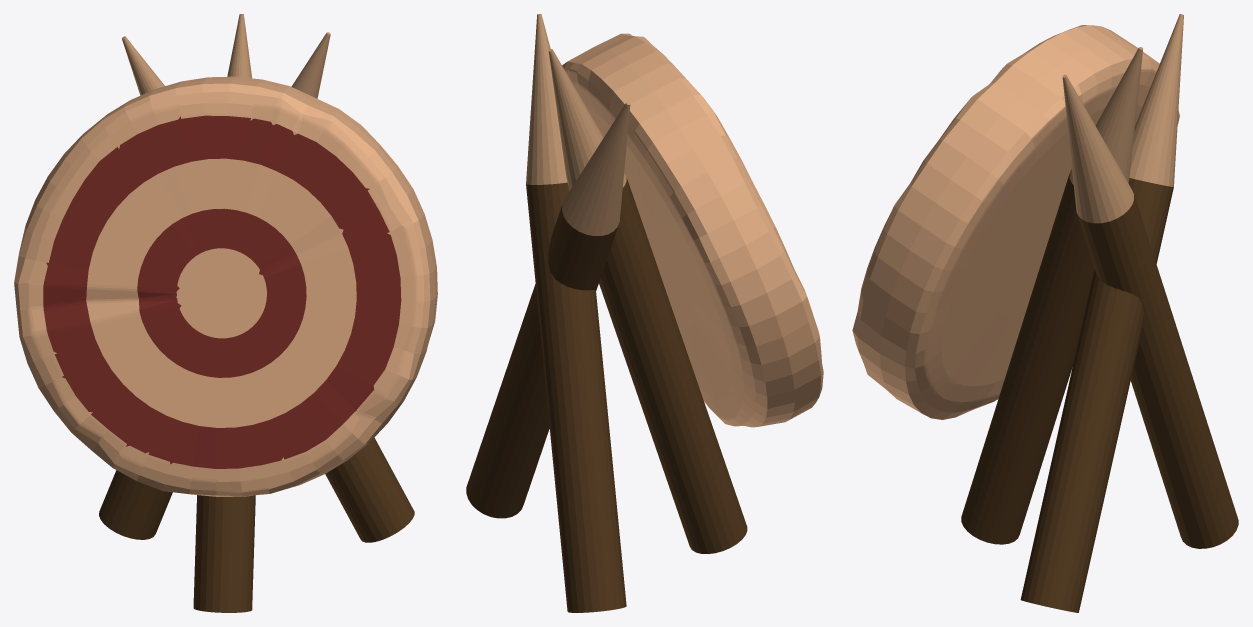
File: bs-archery-target.fbx
3 views of the same model, side by side, from view 1: azimuth 30°, elevation 25°; view 2: azimuth 150°, elevation 25°; view 3: azimuth 270°, elevation 25° (orthographic).
Parts seen in each view (by area): view 1: Cylinder.007; view 2: Cylinder.007; view 3: Cylinder.007.
Part boxes in pixels (x1,y1,x2,y2): Cylinder.007: [14, 14, 437, 612]; Cylinder.007: [466, 14, 823, 612]; Cylinder.007: [852, 14, 1238, 612].
Size of the model in its own units: 98.23 by 134 by 88.08.
